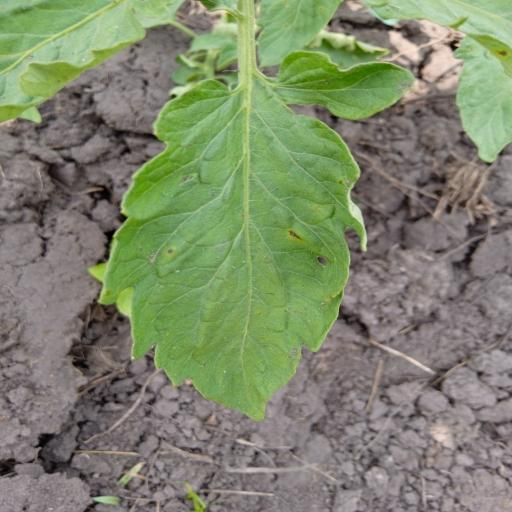Tomato_Mildiou: (94, 72, 368, 429)
